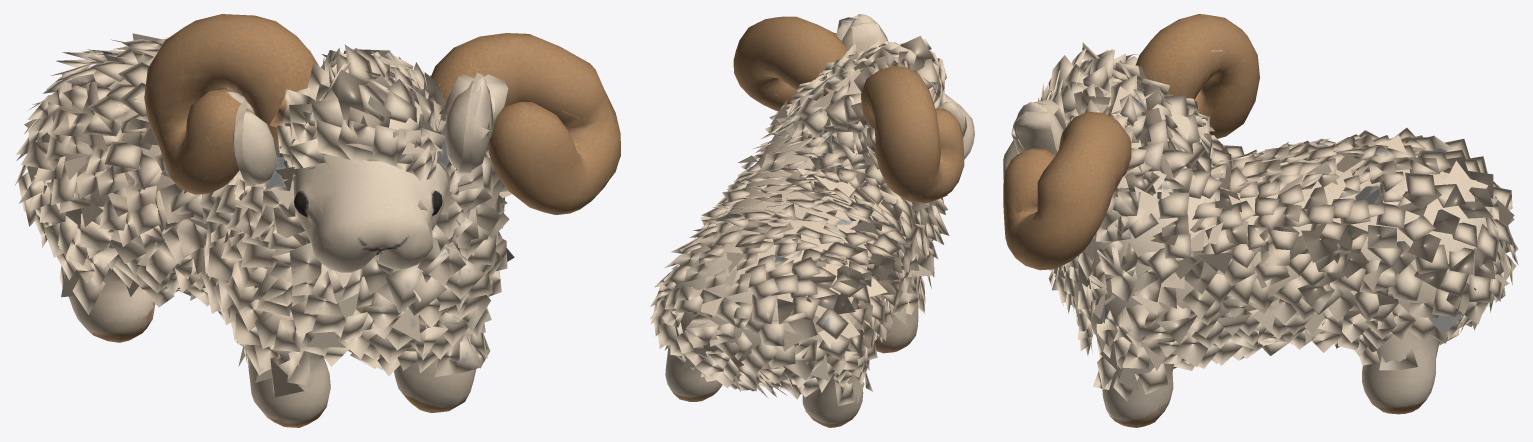
The model's file is bock.glb.
3 renders of one model, left to right at view 1: azimuth 30°, elevation 25°; view 2: azimuth 150°, elevation 25°; view 3: azimuth 270°, elevation 25°, orthographic. The views are drawn at different scales.
Bounding box in the file's own units: 0.7109 × 0.7246 × 1.
Materials: 1 (1 with a texture image).
